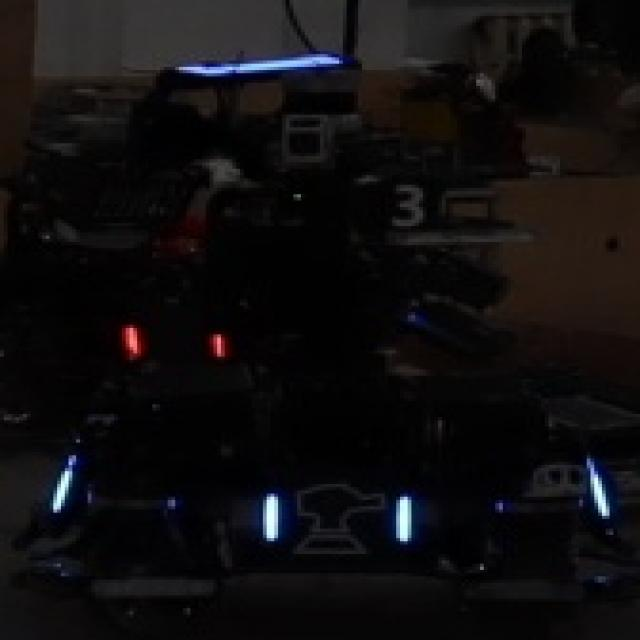Bs: (259, 481, 415, 560)
